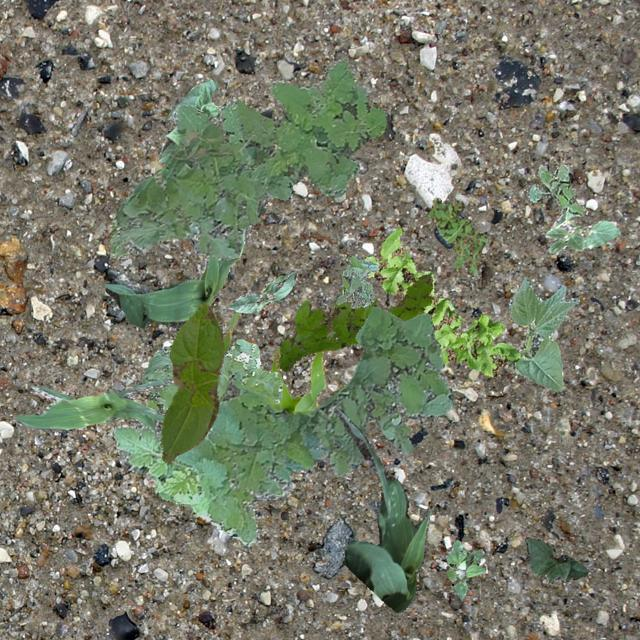crop: (104, 196, 268, 326), (334, 406, 430, 612), (222, 310, 324, 414), (160, 302, 223, 464), (14, 376, 172, 432), (508, 276, 578, 390), (157, 77, 226, 162), (544, 208, 620, 252), (524, 536, 588, 584), (227, 270, 296, 312)
weed: (114, 306, 454, 546), (108, 56, 384, 260), (362, 226, 518, 376), (278, 274, 432, 369), (140, 338, 282, 434), (428, 197, 487, 276), (524, 163, 586, 216), (333, 255, 378, 308), (446, 538, 484, 598)
